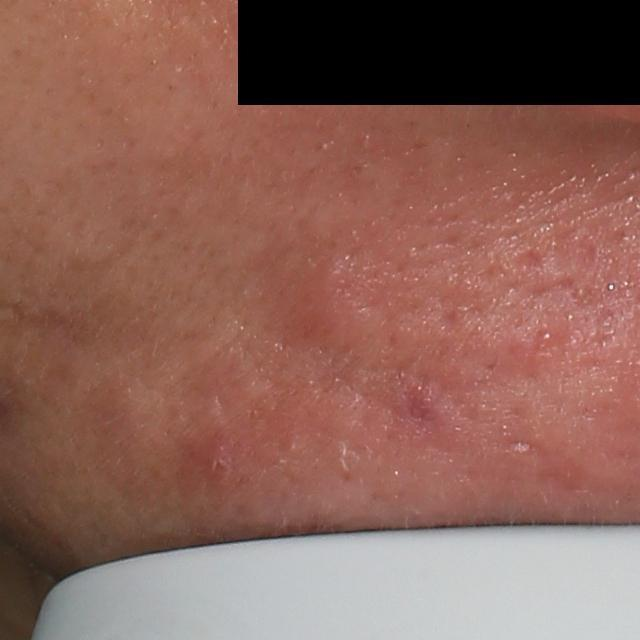atrophic_scar: (508, 249, 545, 273)
papule: (187, 426, 240, 483)
